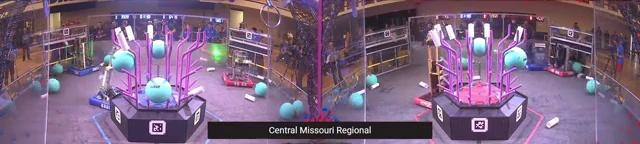reef: (106, 23, 209, 143), (432, 21, 528, 141)
robot: (414, 27, 452, 111), (89, 45, 122, 112), (222, 49, 255, 90), (69, 36, 100, 78), (545, 42, 576, 78), (526, 40, 549, 71)
